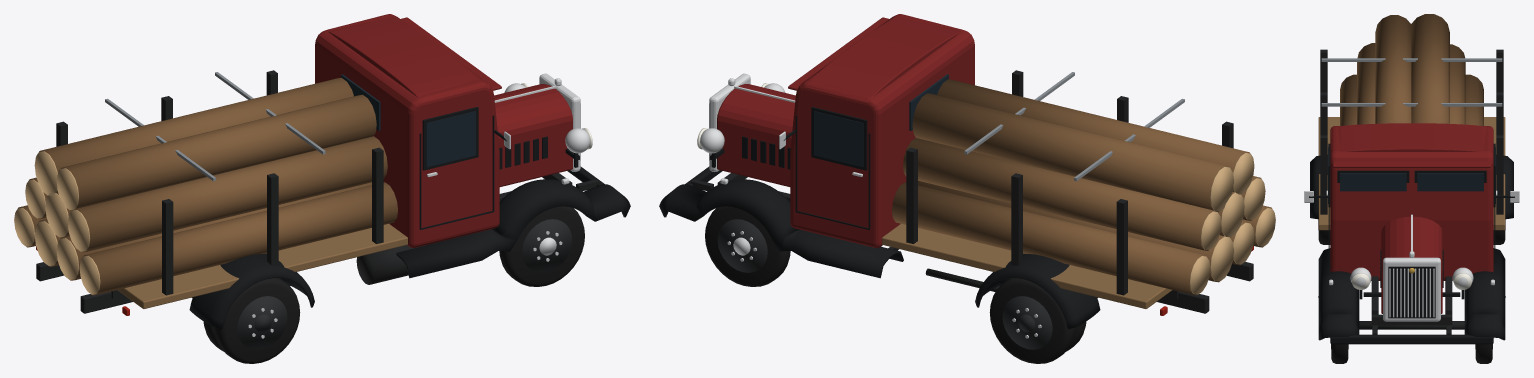
File: witcombe_wood_truck.glb
The picture shows the model from 3 angles, left to right: view 1: azimuth 30°, elevation 25°; view 2: azimuth 150°, elevation 25°; view 3: azimuth 270°, elevation 25°; orthographic projection. The views are drawn at different scales.
Parts seen in each view (by area): view 1: cabine, tora.007, tora.004, tora, paralama_d.001, tora.008, teto_abaulado, capo, piso, roda_t_pneu0.001, paralama_t.001, roda_d_pneu0.001 (+24 smaller); view 2: cabine, tora.008, tora.006, tora.003, paralama_d, teto_abaulado, tora.007, capo, piso, roda_t_pneu1, paralama_t, roda_d_pneu0 (+23 smaller); view 3: cabine, teto_abaulado, tora.008, tora.007, paralama_d, paralama_d.001, capo, radiador_colmeia, para_choque, piso, radiador_moldura, tora.004 (+33 smaller).
Boxes of the visible parts, x1,y1,x2,y2 form: cabine: (315, 14, 499, 247); tora.007: (58, 94, 376, 210); tora.004: (69, 136, 387, 252); tora: (81, 182, 397, 295); paralama_d.001: (396, 179, 630, 278); tora.008: (36, 77, 353, 192); teto_abaulado: (328, 17, 484, 101); capo: (494, 84, 572, 186); piso: (117, 223, 407, 308); roda_t_pneu0.001: (214, 278, 300, 363); paralama_t.001: (189, 253, 314, 329); roda_d_pneu0.001: (499, 206, 584, 286); cabine: (790, 14, 974, 247); tora.008: (912, 93, 1232, 212); tora.006: (903, 138, 1219, 250); tora.003: (892, 182, 1208, 295); paralama_d: (659, 179, 903, 278); teto_abaulado: (805, 17, 961, 101); tora.007: (937, 79, 1252, 191); capo: (717, 84, 795, 186); piso: (882, 223, 1172, 308); roda_t_pneu1: (989, 278, 1075, 363); paralama_t: (975, 253, 1100, 329); roda_d_pneu0: (705, 206, 790, 286); cabine: (1330, 126, 1493, 280); teto_abaulado: (1330, 123, 1493, 153); tora.008: (1411, 14, 1449, 123); tora.007: (1375, 15, 1411, 123); paralama_d: (1464, 248, 1505, 340); paralama_d.001: (1318, 248, 1359, 340); capo: (1381, 216, 1442, 313); radiador_colmeia: (1388, 266, 1435, 318); para_choque: (1330, 334, 1493, 344); piso: (1318, 117, 1505, 230); radiador_moldura: (1383, 257, 1440, 321); tora.004: (1357, 43, 1375, 124).
Bounding box in the file's own units: 5.73 × 2.34 × 2.45.
